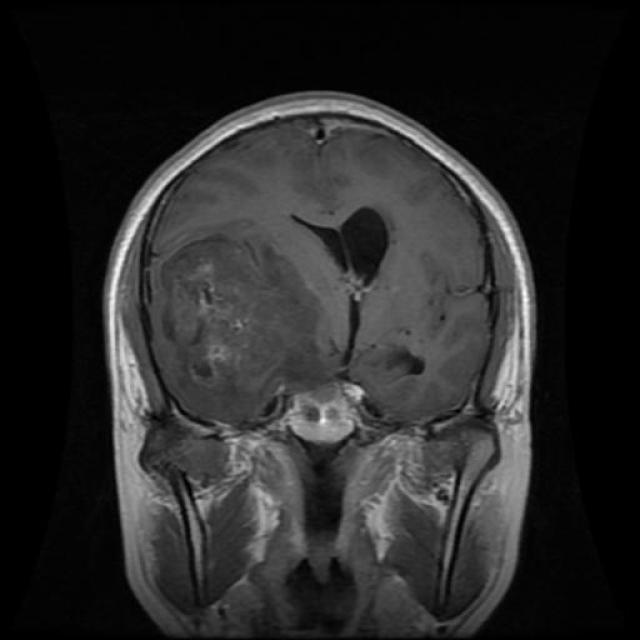glioma: (284, 208, 408, 348)
